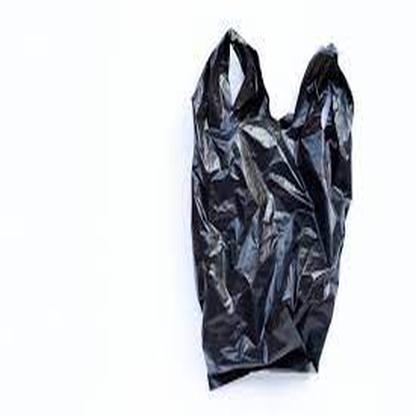plastic bag: (189, 26, 355, 387)
